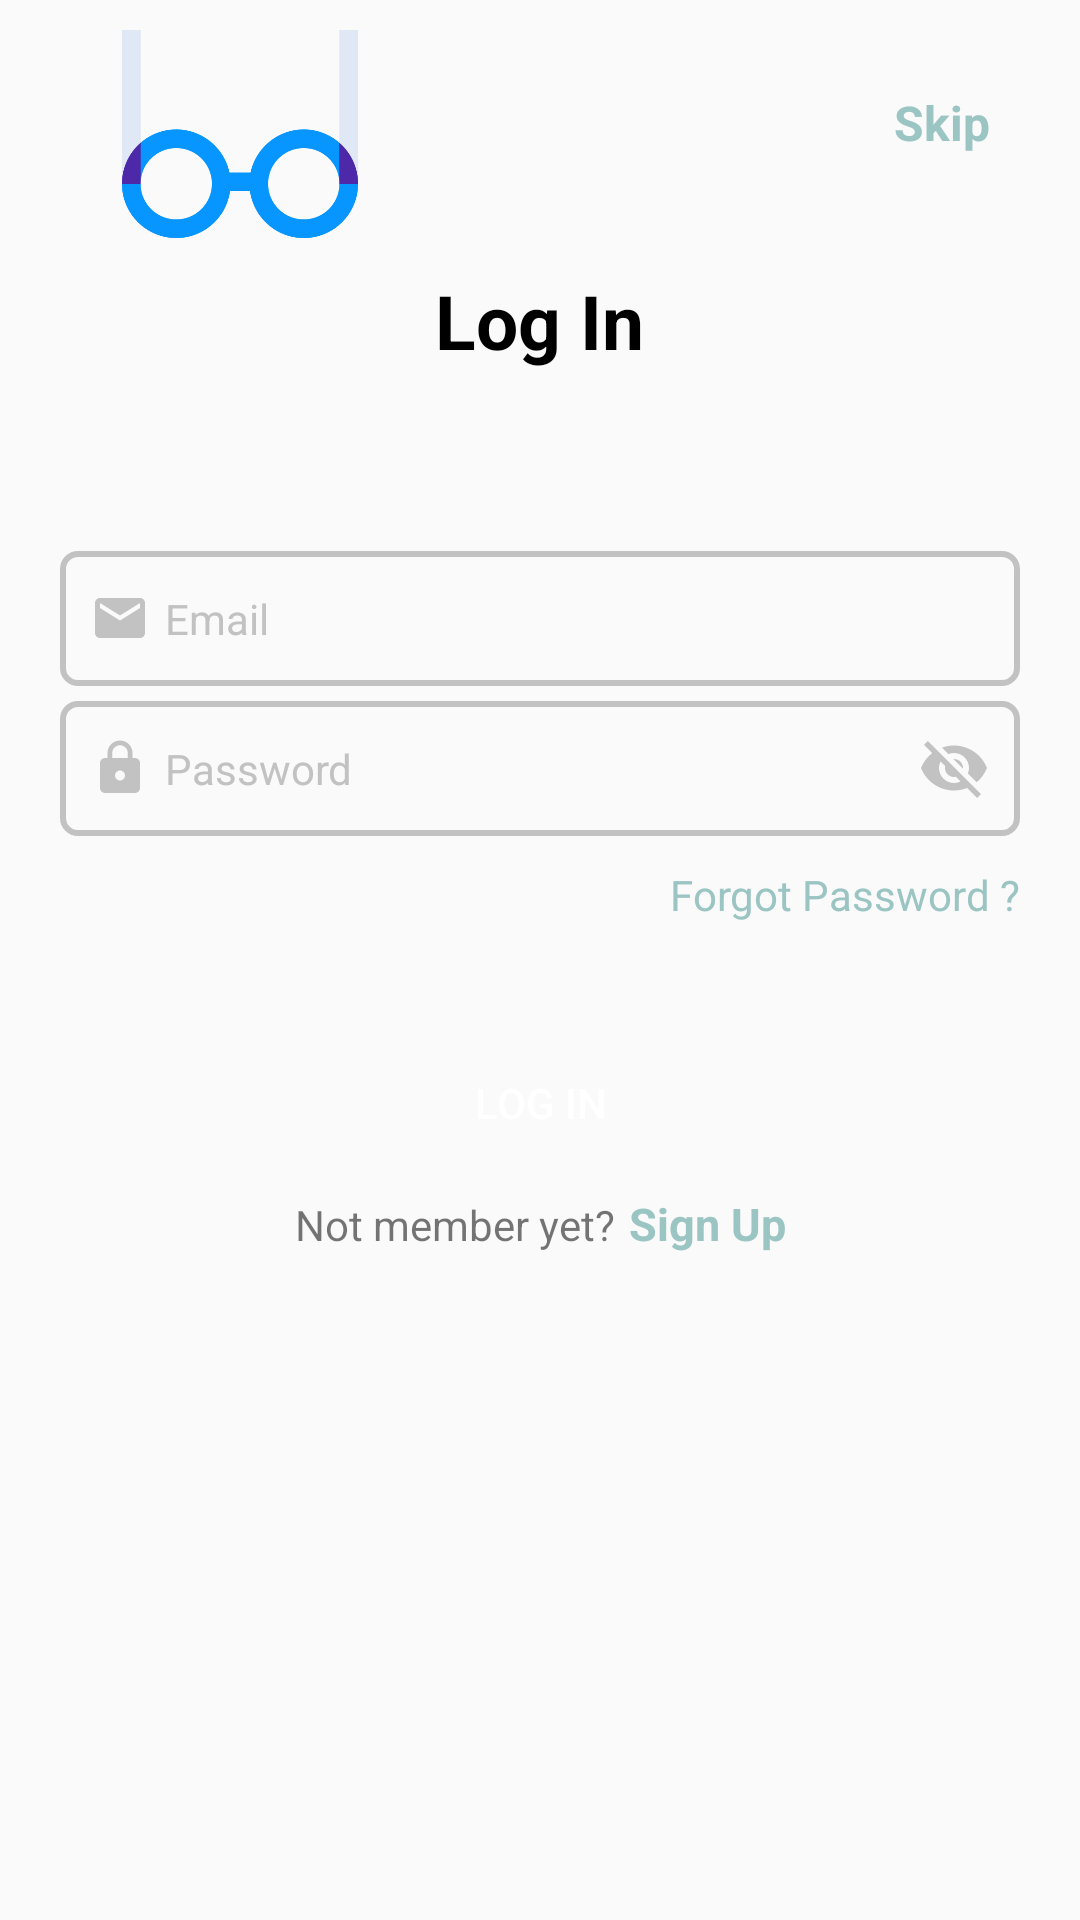

Icons on this 1080w x 1920h Android screen, each with its box as (x1, y1, x2, y2):
visibility off: (921, 741, 987, 798)
